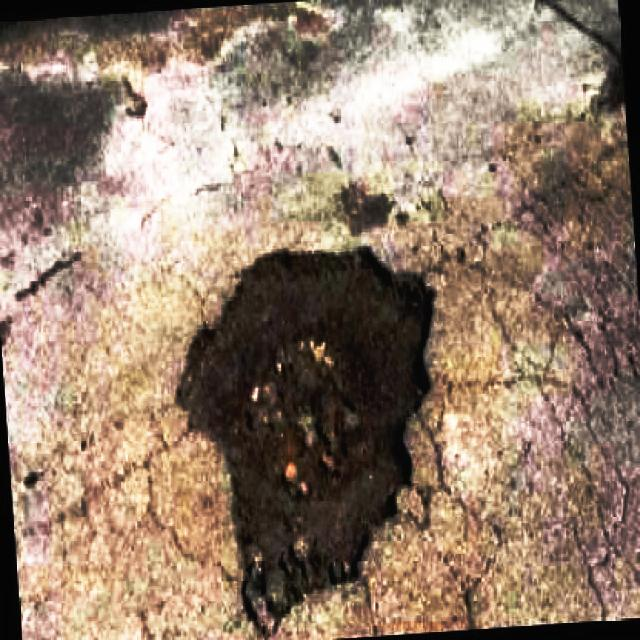pothole: (179, 246, 443, 623)
